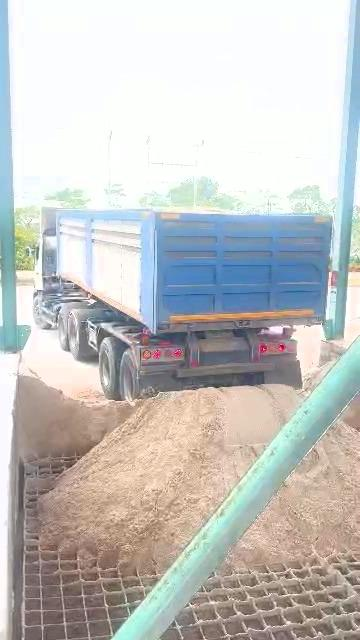sand: (41, 386, 300, 570), (228, 422, 360, 567), (16, 367, 140, 460), (304, 360, 335, 393), (342, 393, 360, 431), (152, 205, 235, 213), (26, 478, 54, 494)
